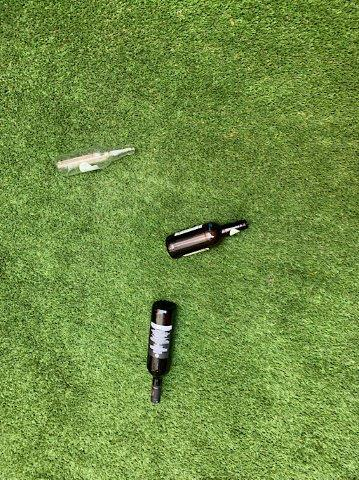botolkaca: (164, 218, 250, 256), (148, 302, 176, 405), (52, 145, 137, 172)
